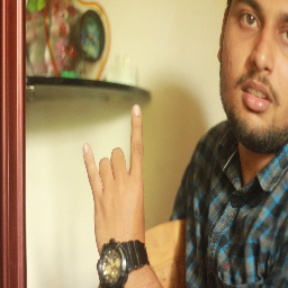V: (81, 101, 158, 251)
